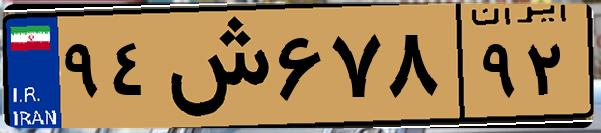2: (525, 38, 570, 115)
4: (110, 28, 158, 98)
6: (270, 28, 330, 110)
7: (330, 28, 385, 110)
8: (385, 28, 445, 110)
9: (57, 26, 110, 100), (475, 38, 525, 113)
ش: (158, 12, 270, 120)
